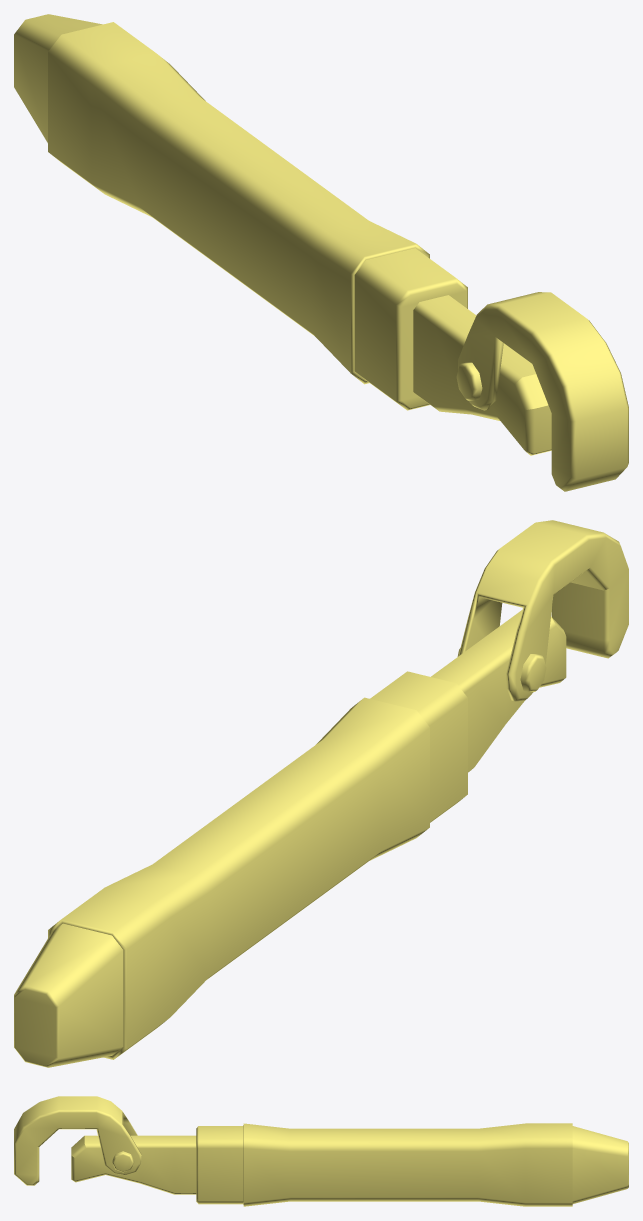
File: Wrench01.fbx
3 views of the same model, one above another, from view 1: azimuth 30°, elevation 25°; view 2: azimuth 150°, elevation 25°; view 3: azimuth 270°, elevation 25° (orthographic). The views are drawn at different scales.
Parts seen in each view (by area): view 1: Wrench01_Modelling_v002:Wrench_Body; view 2: Wrench01_Modelling_v002:Wrench_Body; view 3: Wrench01_Modelling_v002:Wrench_Body.
Part boxes in pixels (x1,y1,x2,y2): Wrench01_Modelling_v002:Wrench_Body: (14, 14, 628, 491); Wrench01_Modelling_v002:Wrench_Body: (14, 520, 628, 1067); Wrench01_Modelling_v002:Wrench_Body: (14, 1096, 628, 1206).
Bounding box in the file's own units: 2.16 × 4.66 × 26.79.
1 material, 1 textured.
